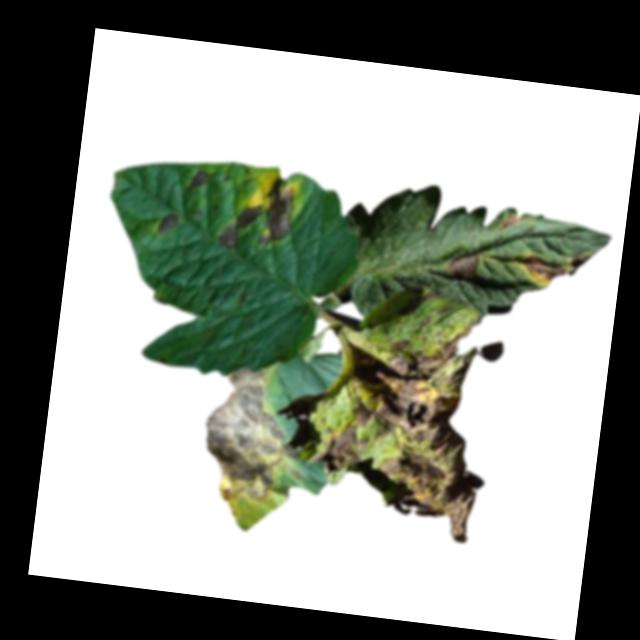Early_blight: (319, 325, 492, 542), (202, 362, 295, 509), (214, 171, 297, 256), (516, 253, 568, 287), (443, 247, 480, 277), (155, 208, 181, 235), (499, 210, 521, 234), (185, 168, 207, 189), (420, 285, 444, 304)
